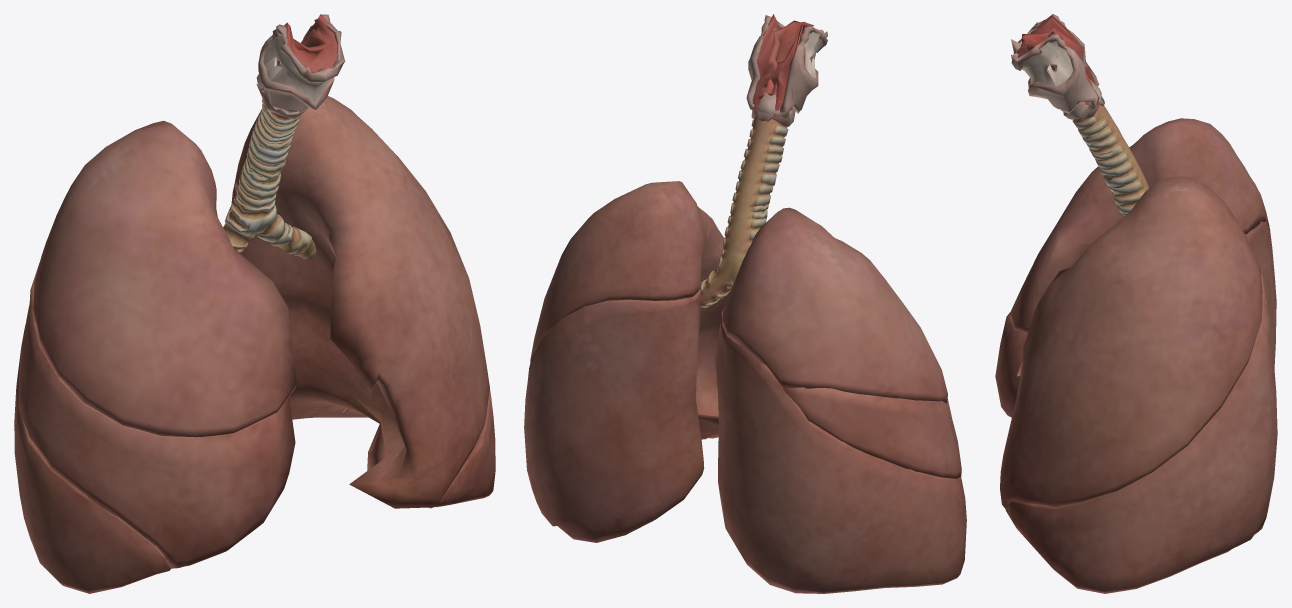
File: Pulmones.fbx
3 views of the same model, side by side, from view 1: azimuth 30°, elevation 25°; view 2: azimuth 150°, elevation 25°; view 3: azimuth 270°, elevation 25° (orthographic). The views are drawn at different scales.
Visible parts, largest first — view 1: Respiratoy_Lung_Geo_Right_Male_Anatomy_Pack_Complete_V05:Mal, Respiratoy_Trachea_Geo_Male_Anatomy_Pack_Complete_V05:Male_R, Respiratoy_Thyroid_Cartliage_Geo_Male_Anatomy_Pack_Complete_, Respiratoy_Epiglotis_Geo_Male_Anatomy_Pack_Complete_V05:Male, Respiratoy_Thyroid_Membrane_Geo_Male_Anatomy_Pack_Complete_V; view 2: Respiratoy_Lung_Geo_Right_Male_Anatomy_Pack_Complete_V05:Mal, Respiratoy_Trachea_Geo_Male_Anatomy_Pack_Complete_V05:Male_R, Respiratoy_Thyroid_Cartliage_Geo_Male_Anatomy_Pack_Complete_, Respiratoy_Epiglotis_Geo_Male_Anatomy_Pack_Complete_V05:Male; view 3: Respiratoy_Lung_Geo_Right_Male_Anatomy_Pack_Complete_V05:Mal, Respiratoy_Trachea_Geo_Male_Anatomy_Pack_Complete_V05:Male_R, Respiratoy_Thyroid_Cartliage_Geo_Male_Anatomy_Pack_Complete_, Respiratoy_Thyroid_Membrane_Geo_Male_Anatomy_Pack_Complete_V, Respiratoy_Epiglotis_Geo_Male_Anatomy_Pack_Complete_V05:Male.
Part boxes in pixels (x1,y1,x2,y2): Respiratoy_Lung_Geo_Right_Male_Anatomy_Pack_Complete_V05:Mal: [14, 96, 495, 593]; Respiratoy_Trachea_Geo_Male_Anatomy_Pack_Complete_V05:Male_R: [223, 103, 316, 259]; Respiratoy_Thyroid_Cartliage_Geo_Male_Anatomy_Pack_Complete_: [256, 14, 345, 119]; Respiratoy_Epiglotis_Geo_Male_Anatomy_Pack_Complete_V05:Male: [262, 14, 340, 90]; Respiratoy_Thyroid_Membrane_Geo_Male_Anatomy_Pack_Complete_V: [263, 32, 328, 102]; Respiratoy_Lung_Geo_Right_Male_Anatomy_Pack_Complete_V05:Mal: [524, 181, 966, 593]; Respiratoy_Trachea_Geo_Male_Anatomy_Pack_Complete_V05:Male_R: [699, 116, 788, 308]; Respiratoy_Thyroid_Cartliage_Geo_Male_Anatomy_Pack_Complete_: [746, 15, 827, 126]; Respiratoy_Epiglotis_Geo_Male_Anatomy_Pack_Complete_V05:Male: [752, 14, 813, 118]; Respiratoy_Lung_Geo_Right_Male_Anatomy_Pack_Complete_V05:Mal: [995, 118, 1277, 593]; Respiratoy_Trachea_Geo_Male_Anatomy_Pack_Complete_V05:Male_R: [1072, 105, 1148, 217]; Respiratoy_Thyroid_Cartliage_Geo_Male_Anatomy_Pack_Complete_: [1011, 14, 1104, 119]; Respiratoy_Thyroid_Membrane_Geo_Male_Anatomy_Pack_Complete_V: [1021, 41, 1073, 85]; Respiratoy_Epiglotis_Geo_Male_Anatomy_Pack_Complete_V05:Male: [1017, 15, 1100, 105].
Size of the model in its own units: 29.02 by 33.34 by 17.79.
Materials: 3 (3 with a texture image).
